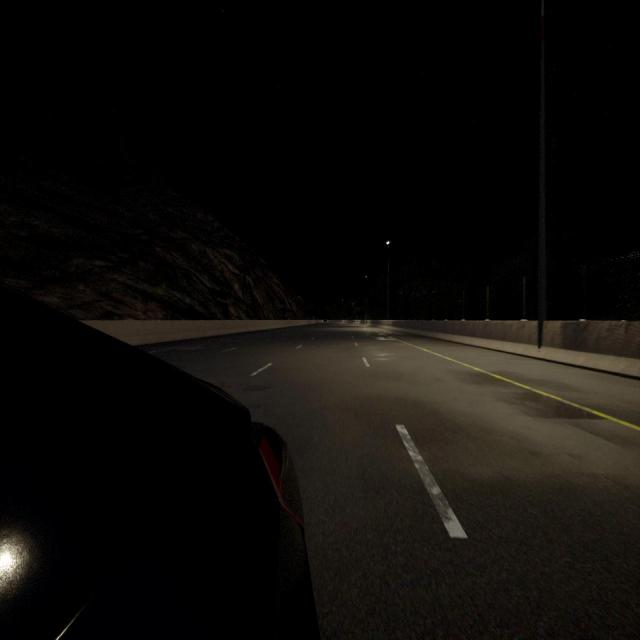Vehicle: (0, 286, 318, 640)
